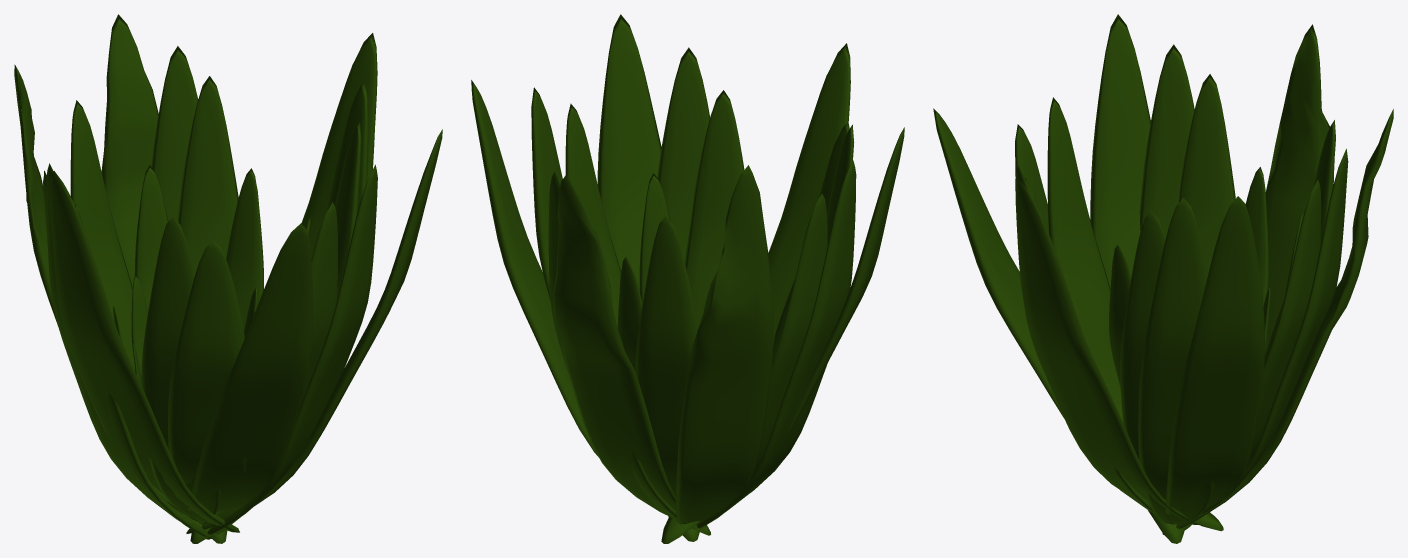
Rendered from aloe vera.glb.
3 views of the same model, side by side, from view 1: azimuth 30°, elevation 25°; view 2: azimuth 150°, elevation 25°; view 3: azimuth 270°, elevation 25° (orthographic).
Visible parts, largest first — view 1: Cube.037, Cube.038, Cube.031, Cube.040, Cube.030, Cube.028, Cube.025, Cube.027, Cube.036, Cube.034, Cube.041, Cube.032 (+7 smaller); view 2: Cube.039, Cube.040, Cube.036, Cube.027, Cube.032, Cube.037, Cube.041, Cube.024, Cube.030, Cube.026, Cube.038, Cube.029 (+6 smaller); view 3: Cube.041, Cube.036, Cube.035, Cube.038, Cube.039, Cube.025, Cube.037, Cube.026, Cube.032, Cube.034, Cube.040, Cube.028 (+6 smaller).
Part boxes in pixels (bbox=[...]): Cube.037: bbox=[186, 223, 313, 511]; Cube.038: bbox=[49, 171, 239, 532]; Cube.031: bbox=[168, 240, 246, 483]; Cube.040: bbox=[101, 14, 227, 543]; Cube.030: bbox=[207, 164, 377, 534]; Cube.028: bbox=[177, 76, 238, 524]; Cube.025: bbox=[141, 216, 220, 521]; Cube.027: bbox=[70, 100, 202, 524]; Cube.036: bbox=[186, 129, 442, 533]; Cube.034: bbox=[151, 46, 207, 539]; Cube.041: bbox=[190, 33, 377, 543]; Cube.032: bbox=[46, 163, 211, 538]; Cube.039: bbox=[675, 165, 773, 525]; Cube.040: bbox=[553, 175, 675, 514]; Cube.036: bbox=[597, 14, 699, 541]; Cube.027: bbox=[635, 216, 697, 496]; Cube.032: bbox=[697, 160, 856, 528]; Cube.037: bbox=[661, 43, 850, 543]; Cube.041: bbox=[471, 80, 710, 535]; Cube.024: bbox=[685, 90, 744, 328]; Cube.030: bbox=[657, 47, 709, 261]; Cube.026: bbox=[751, 193, 827, 477]; Cube.038: bbox=[787, 127, 904, 436]; Cube.029: bbox=[565, 103, 620, 326]; Cube.041: bbox=[1165, 196, 1264, 514]; Cube.036: bbox=[1016, 181, 1198, 524]; Cube.035: bbox=[1138, 198, 1214, 523]; Cube.038: bbox=[1090, 14, 1184, 543]; Cube.039: bbox=[1184, 24, 1333, 530]; Cube.025: bbox=[1047, 97, 1122, 417]; Cube.037: bbox=[933, 108, 1223, 531]; Cube.026: bbox=[1179, 74, 1235, 274]; Cube.032: bbox=[1139, 44, 1194, 238]; Cube.034: bbox=[1201, 148, 1348, 513]; Cube.040: bbox=[1162, 109, 1393, 534]; Cube.028: bbox=[1249, 180, 1321, 458].
Bounding box in the file's own units: 144 × 165 × 154.
